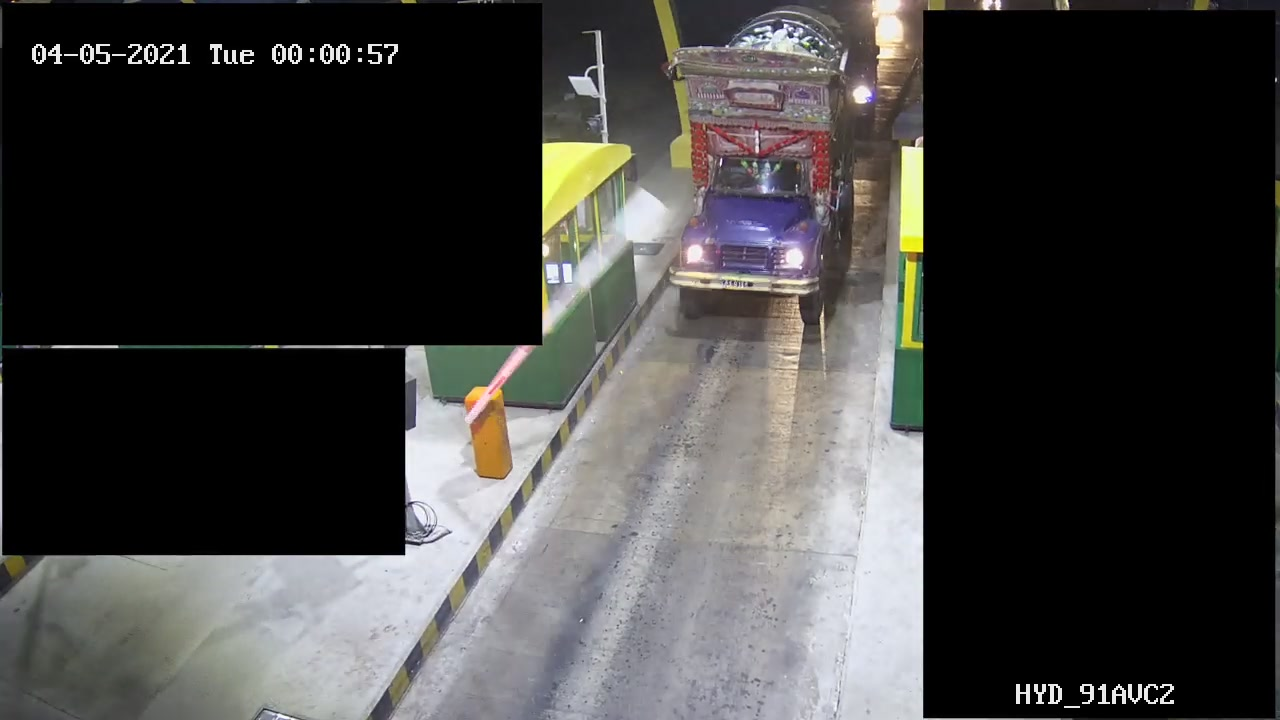F5: (662, 1, 857, 333)
